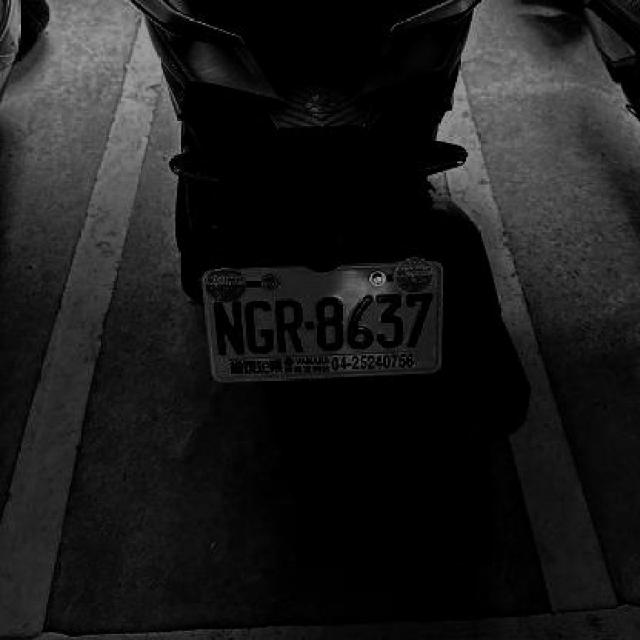3: (374, 296, 404, 352)
6: (343, 291, 377, 352)
7: (404, 294, 436, 352)
8: (314, 294, 348, 352)
G: (241, 297, 274, 355)
N: (212, 298, 246, 360)
R: (272, 297, 305, 352)
